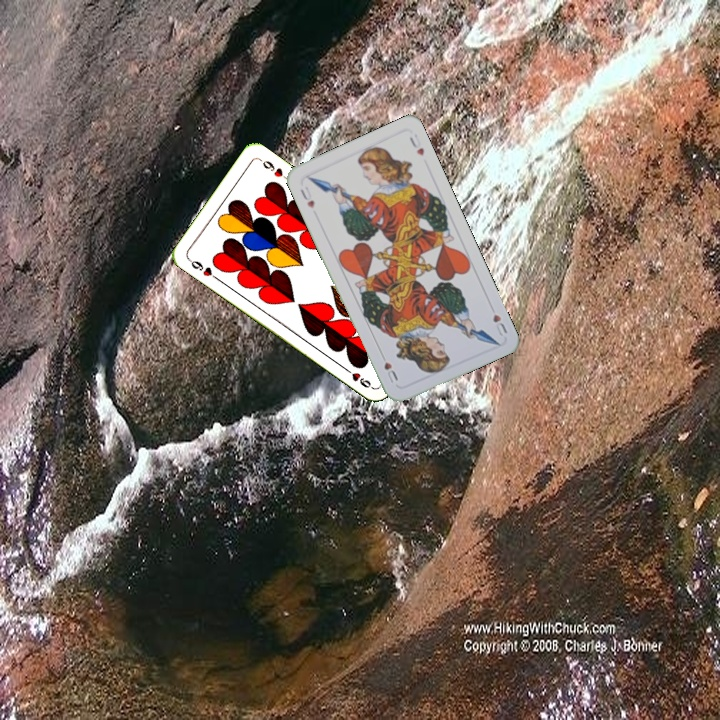H9: (184, 255, 220, 282)
HU: (296, 182, 317, 211), (489, 310, 510, 339)
